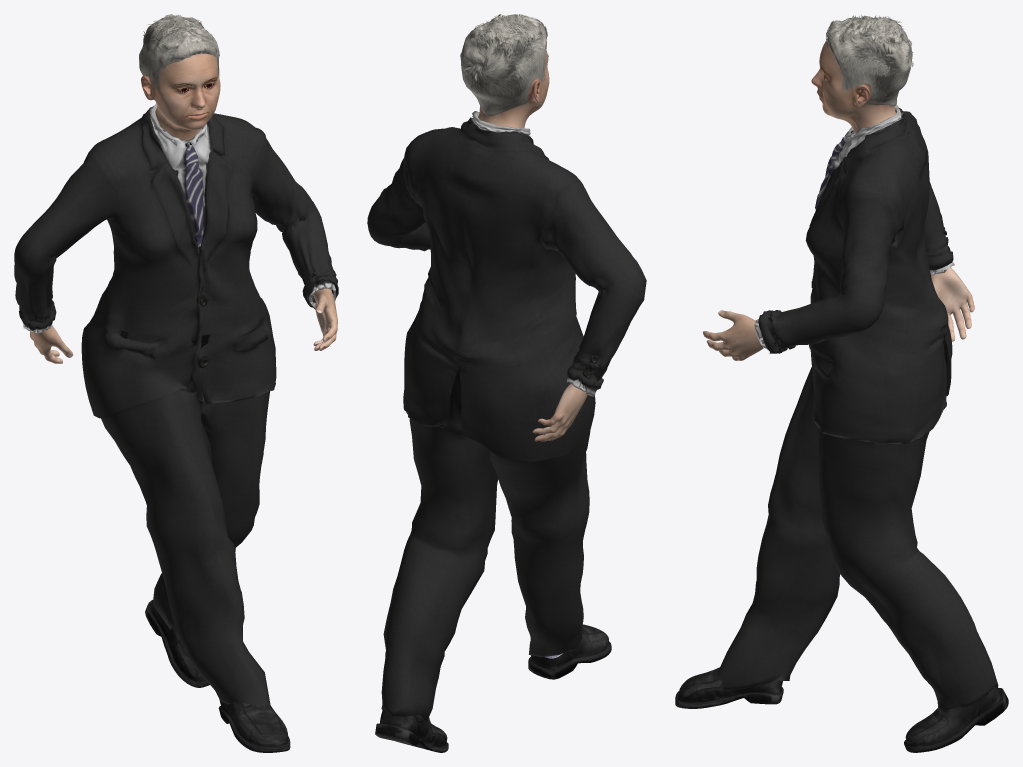
File: character.glb
3 views of the same model, side by side, from view 1: azimuth 30°, elevation 25°; view 2: azimuth 150°, elevation 25°; view 3: azimuth 270°, elevation 25° (orthographic). The views are drawn at different scales.
Visible parts, largest first — view 1: male_elegantsuit01, Harper | anatomical body, shoes04, short01; view 2: male_elegantsuit01, short01, shoes04, Harper | anatomical body; view 3: male_elegantsuit01, Harper | anatomical body, short01, shoes04.
Boxes of the visible parts, x1,y1,x2,y2 form: male_elegantsuit01: (14, 103, 338, 705); Harper | anatomical body: (30, 53, 337, 363); shoes04: (145, 600, 290, 752); short01: (139, 14, 219, 89); male_elegantsuit01: (367, 111, 646, 722); short01: (460, 14, 547, 116); shoes04: (375, 624, 611, 752); Harper | anatomical body: (478, 50, 587, 441); male_elegantsuit01: (717, 105, 998, 714); Harper | anatomical body: (703, 41, 974, 360); short01: (826, 14, 913, 106); shoes04: (675, 667, 1008, 752).
Bounding box in the file's own units: 0.7154 × 1.68 × 0.7188.
Materials: 9 (9 with a texture image).
